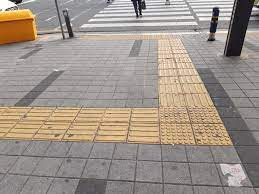guide_blocks: (1, 107, 233, 144), (158, 74, 212, 107), (157, 41, 197, 75), (82, 34, 180, 39)
